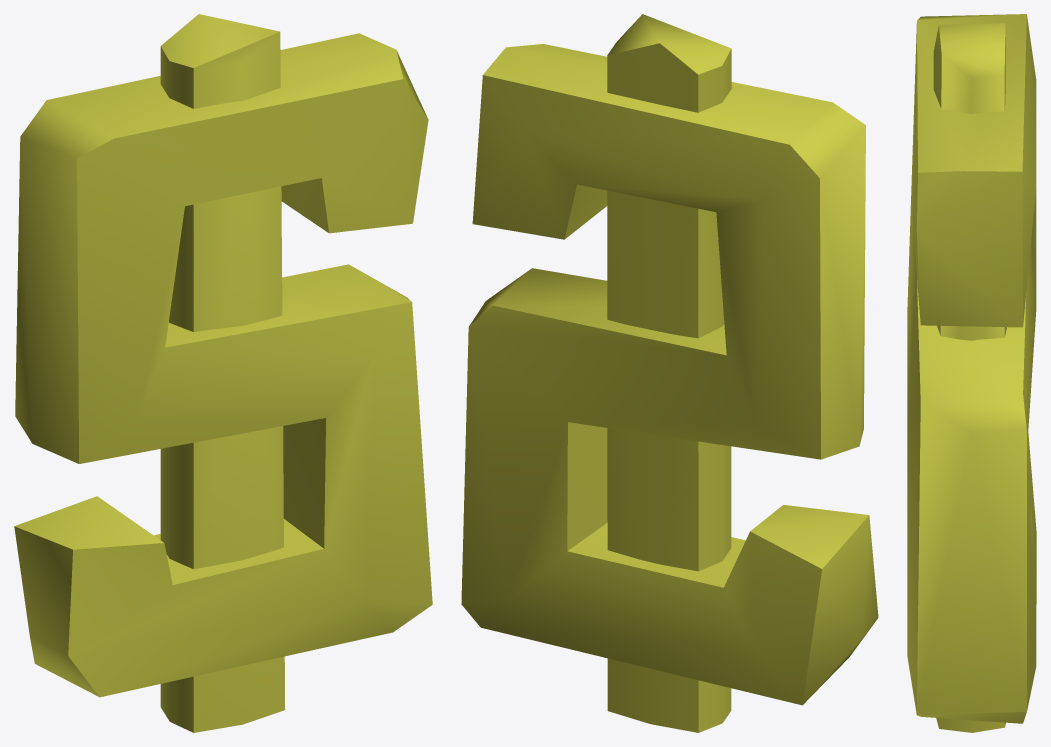
The model's file is 03 money.FBX.
3 views of the same model, side by side, from view 1: azimuth 30°, elevation 25°; view 2: azimuth 150°, elevation 25°; view 3: azimuth 270°, elevation 25° (orthographic).
Visible parts, largest first — view 1: SM_Icon_Letter_Money_01; view 2: SM_Icon_Letter_Money_01; view 3: SM_Icon_Letter_Money_01.
Part boxes in pixels (x1=…): SM_Icon_Letter_Money_01: x1=14, y1=14, x2=432, y2=732; SM_Icon_Letter_Money_01: x1=461, y1=14, x2=878, y2=732; SM_Icon_Letter_Money_01: x1=907, y1=14, x2=1036, y2=732.
Bounding box in the file's own units: 38.06 × 66.09 × 11.36.
